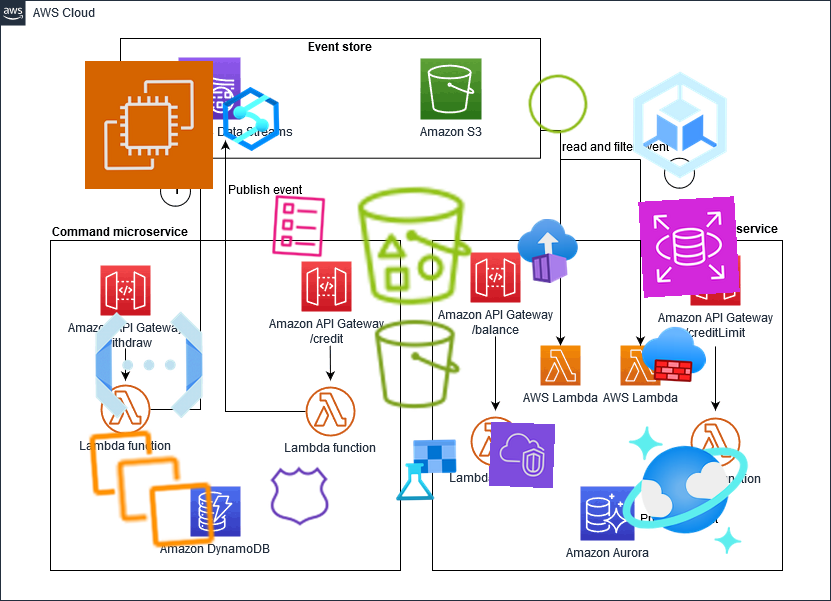aws_amazon_ec2: (84, 60, 214, 190)
aws_amazon_rds: (638, 196, 740, 298)
aws_amazon_virtual_private_cloud: (488, 421, 556, 489)
aws_cloudformation_template: (264, 192, 332, 260)
aws_ec2_instances: (83, 420, 221, 558)
aws_route_53_hosted_zone: (267, 463, 333, 529)
aws_simple_storage_service_bucket_with_objects: (349, 180, 481, 312)
aws_simple_storage_service_object: (524, 70, 592, 138)
aws_simple_storage_service_s3_standard: (368, 315, 466, 413)
azure_container_instances: (514, 217, 582, 285)
azure_cosmos_db: (615, 420, 755, 560)
azure_firewalls: (640, 320, 708, 388)
azure_machine_learning_studio_workspaces: (393, 437, 459, 503)
azure_synapse_analytics: (218, 86, 284, 152)
gcp_cloud_functions: (84, 300, 214, 430)
gcp_google_kubernetes_engine: (615, 60, 745, 190)
